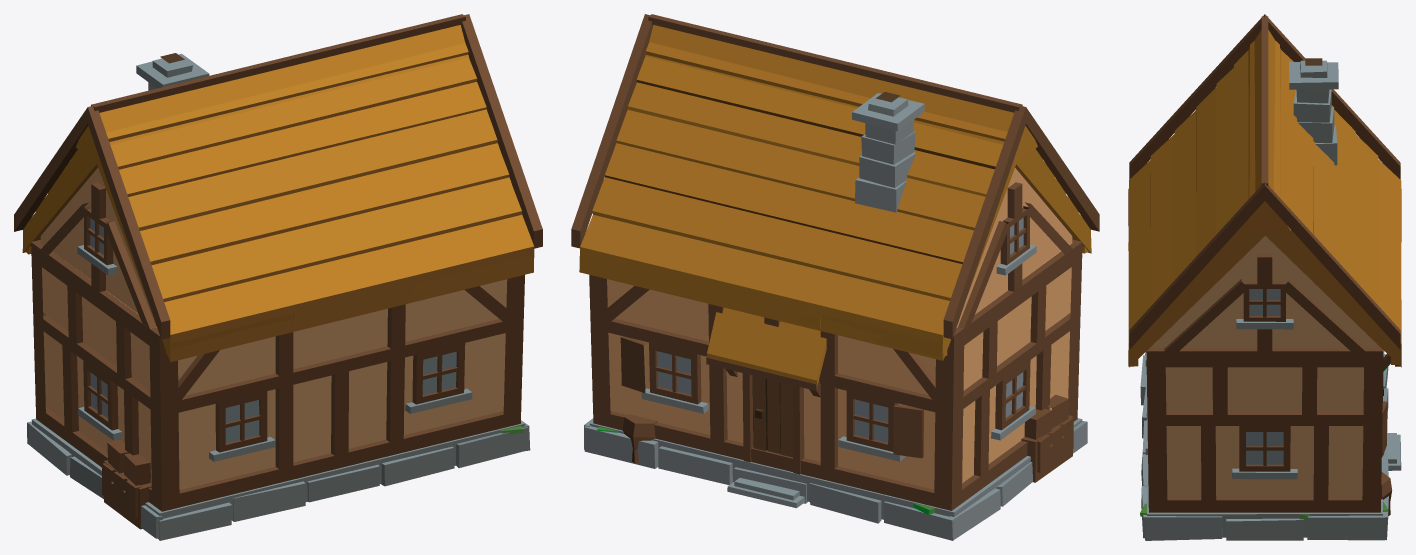
Rendered from house_a.glb.
3 renders of one model, left to right at view 1: azimuth 30°, elevation 25°; view 2: azimuth 150°, elevation 25°; view 3: azimuth 270°, elevation 25°, orthographic. The views are drawn at different scales.
Parts seen in each view (by area): view 1: vh_house; view 2: vh_house; view 3: vh_house.
Part boxes in pixels (x1,y1,x2,y2): vh_house: [14, 14, 542, 540]; vh_house: [571, 14, 1099, 540]; vh_house: [1128, 14, 1401, 540].
Size of the model in its own units: 2.98 by 2.91 by 2.01.
